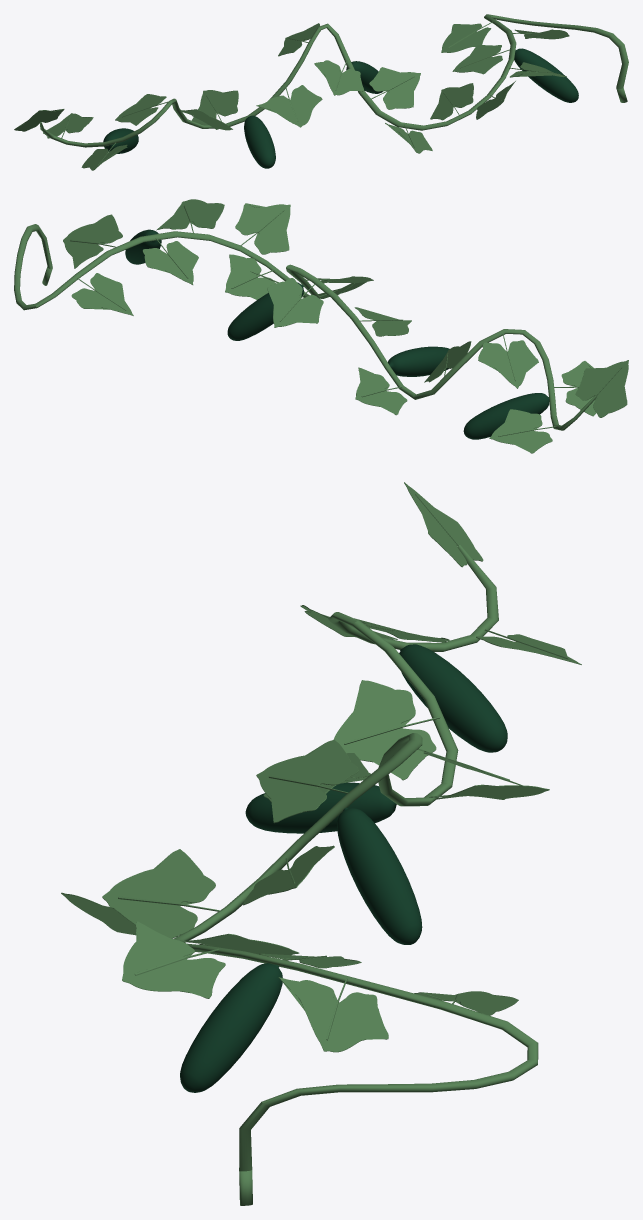
The model's file is wine-with-cucumbers.fbx.
3 renders of one model, top to bottom at view 1: azimuth 30°, elevation 25°; view 2: azimuth 150°, elevation 25°; view 3: azimuth 270°, elevation 25°, orthographic. The views are drawn at different scales.
Parts seen in each view (by area): view 1: cucumber/squash vine, cucumber 1, cucumber 3, cucumber 4, cucumber 2; view 2: cucumber/squash vine, cucumber 4, cucumber 3, cucumber 2, cucumber 1; view 3: cucumber/squash vine, cucumber 1, cucumber 2, cucumber 4, cucumber 3.
Boxes of the visible parts, x1,y1,x2,y2 form: cucumber/squash vine: (14, 14, 628, 170); cucumber 1: (514, 48, 578, 102); cucumber 3: (244, 115, 275, 168); cucumber 4: (103, 128, 138, 153); cucumber 2: (346, 61, 382, 93); cucumber/squash vine: (14, 199, 628, 453); cucumber 4: (463, 393, 549, 439); cucumber 3: (388, 346, 449, 376); cucumber 2: (227, 282, 303, 340); cucumber 1: (125, 229, 161, 264); cucumber/squash vine: (61, 482, 581, 1205); cucumber 1: (180, 963, 282, 1092); cucumber 2: (337, 807, 422, 944); cucumber 4: (399, 644, 507, 752); cucumber 3: (245, 782, 396, 833).
Bounding box in the file's own units: 1947 × 362 × 781.
